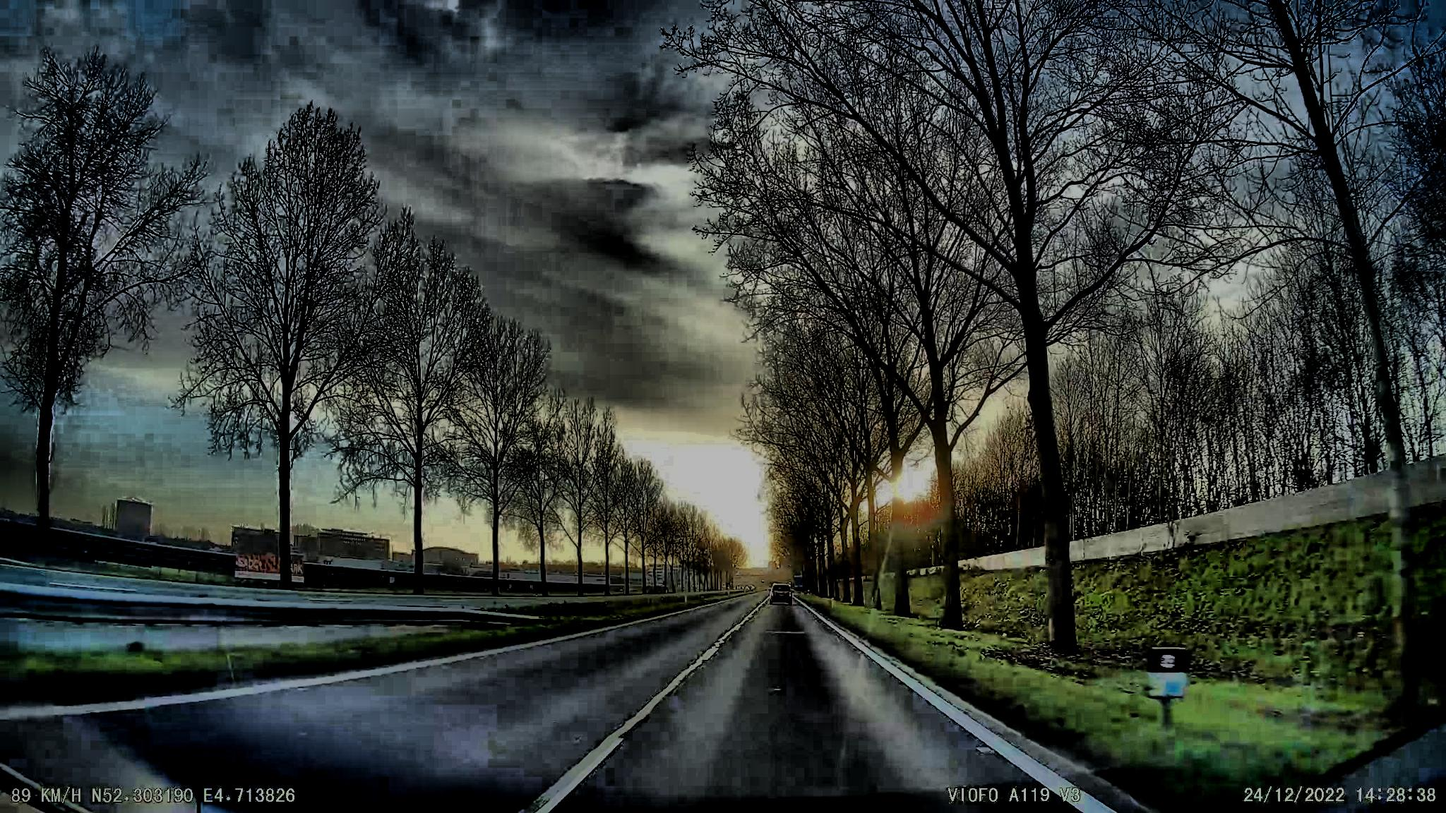Roads: (0, 593, 1168, 813)
